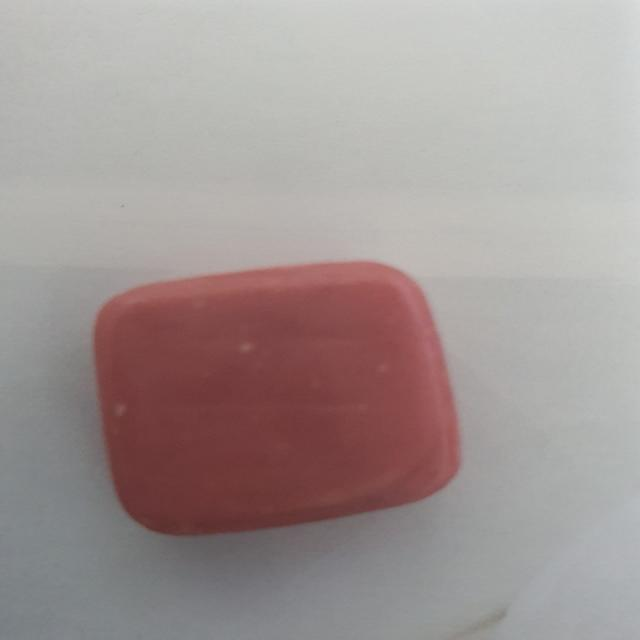pill: (82, 254, 482, 546)
